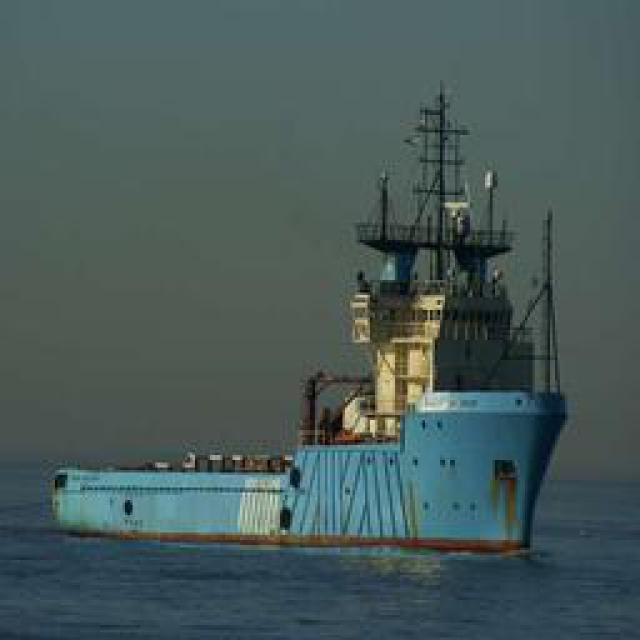Ship: (20, 86, 572, 566)
